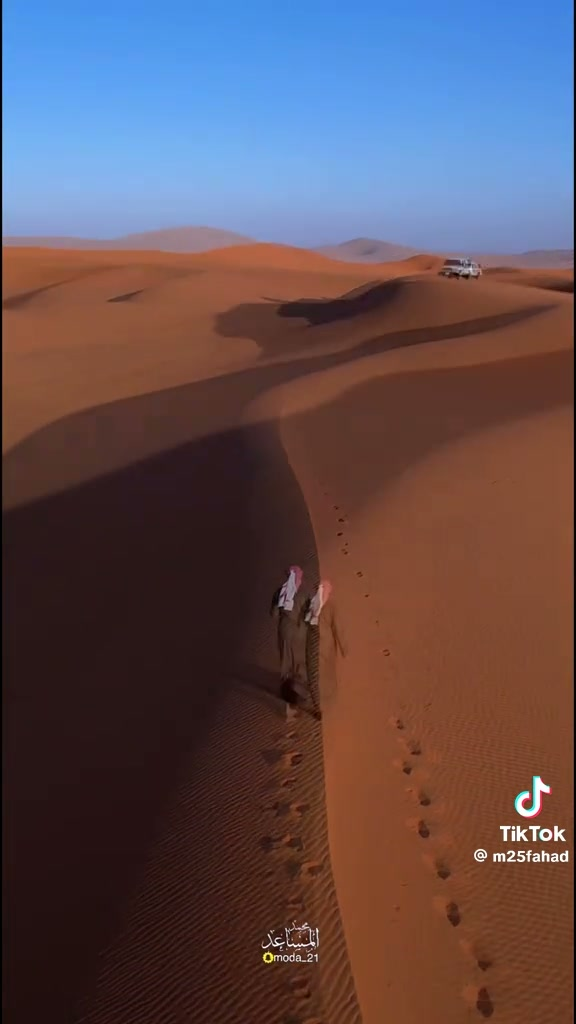human_foot_print: (259, 720, 323, 921), (304, 579, 347, 720), (270, 565, 305, 688), (263, 742, 307, 818), (260, 831, 322, 881), (405, 759, 445, 817), (406, 759, 445, 817), (389, 715, 421, 775), (390, 716, 421, 776), (261, 741, 302, 771), (262, 774, 297, 809), (459, 937, 492, 973), (460, 938, 493, 972), (263, 795, 309, 819), (273, 709, 298, 751), (463, 985, 493, 1018), (287, 857, 323, 882), (399, 735, 421, 775), (433, 897, 461, 928), (434, 896, 461, 928), (332, 505, 349, 555), (433, 897, 461, 927), (260, 833, 303, 852), (423, 854, 451, 880), (398, 729, 421, 756), (288, 976, 311, 1003), (475, 986, 494, 1018), (262, 796, 290, 817), (286, 891, 306, 918), (407, 818, 430, 838), (281, 1013, 326, 1023), (261, 747, 283, 766), (445, 900, 461, 926), (288, 801, 309, 819), (302, 860, 323, 878), (282, 833, 303, 851), (281, 751, 302, 769), (393, 759, 415, 776), (434, 858, 451, 880), (336, 529, 349, 555), (285, 703, 300, 725), (426, 748, 442, 766), (332, 504, 347, 523), (416, 819, 430, 838), (406, 740, 421, 756), (416, 790, 431, 806), (279, 776, 296, 790), (283, 728, 297, 744), (390, 716, 405, 730), (401, 761, 413, 775), (341, 543, 349, 555), (338, 515, 348, 524), (382, 648, 390, 656), (356, 570, 363, 578), (337, 531, 344, 538), (332, 505, 340, 511), (374, 619, 379, 626), (364, 593, 369, 597)
